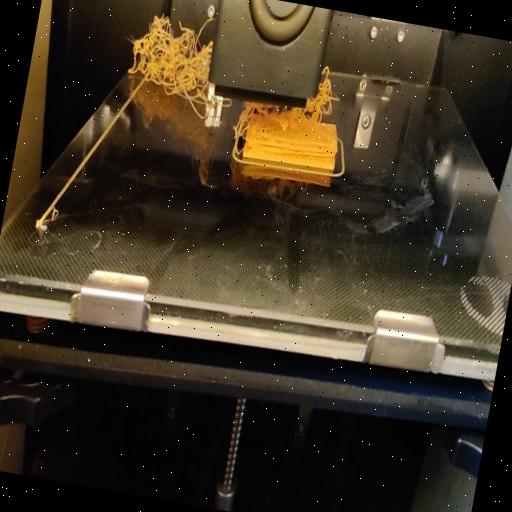spaghetti: (122, 4, 217, 120), (230, 98, 310, 142), (312, 68, 341, 126)
